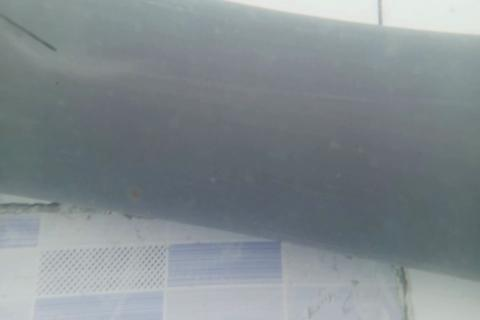keretakan: (0, 10, 61, 56)
